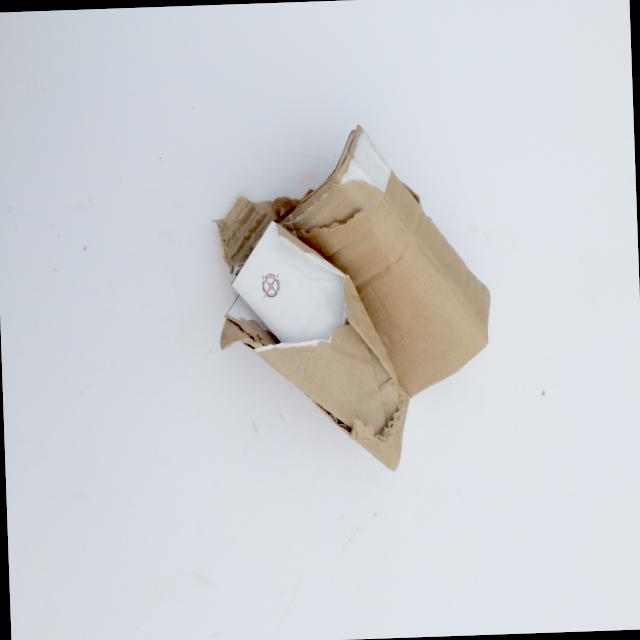Cardboard: (196, 105, 512, 488)
